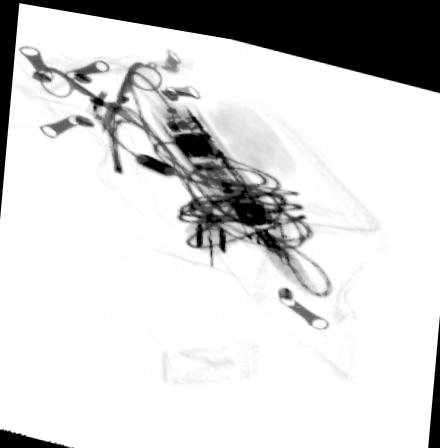Scissors: (35, 58, 161, 131)
